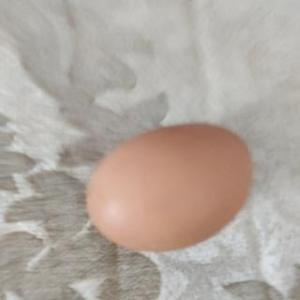egg: (79, 118, 258, 254)
